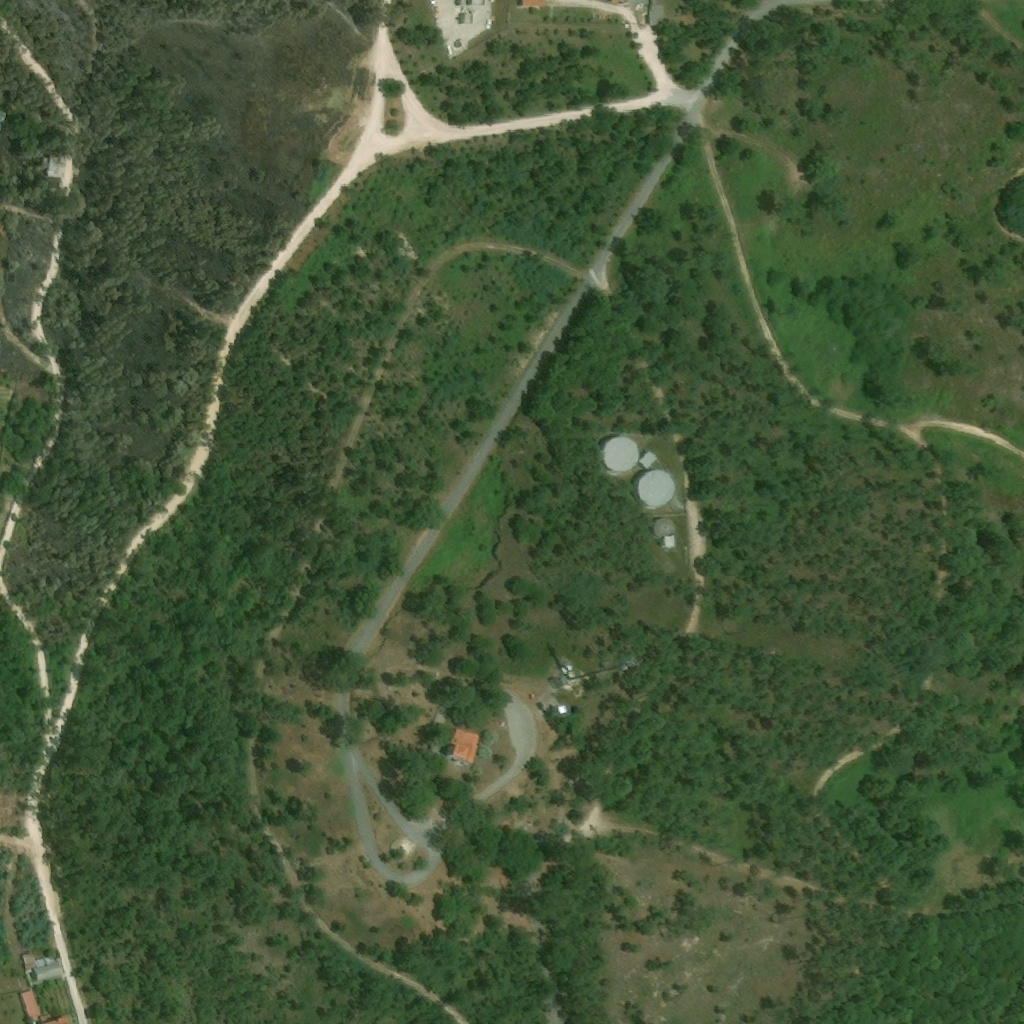0 no-damage: (627, 469, 678, 510), (593, 433, 639, 473), (444, 722, 481, 768), (18, 951, 64, 987), (647, 516, 676, 552), (18, 987, 41, 1020), (41, 158, 61, 180), (37, 1012, 72, 1023), (638, 451, 656, 468), (455, 9, 471, 24), (547, 675, 562, 690), (556, 661, 571, 674)
4 un-classified: (643, 0, 663, 27), (516, 0, 541, 14), (453, 0, 483, 6), (608, 0, 647, 3), (0, 113, 5, 129)
